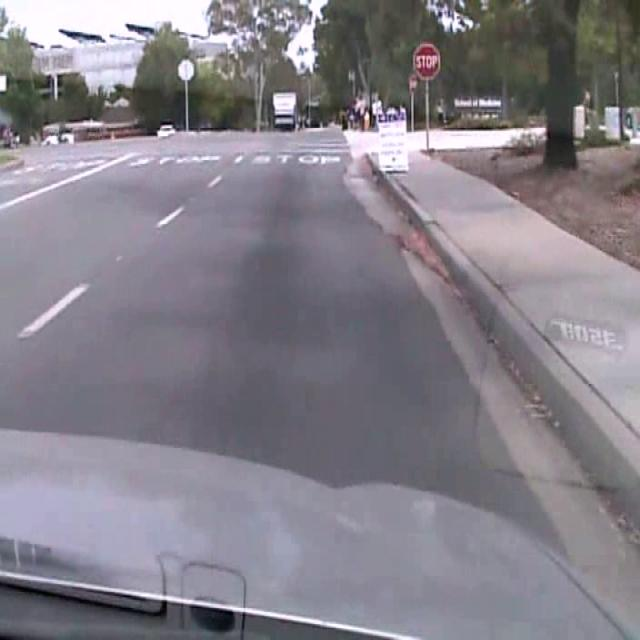stop: (413, 41, 440, 80)
